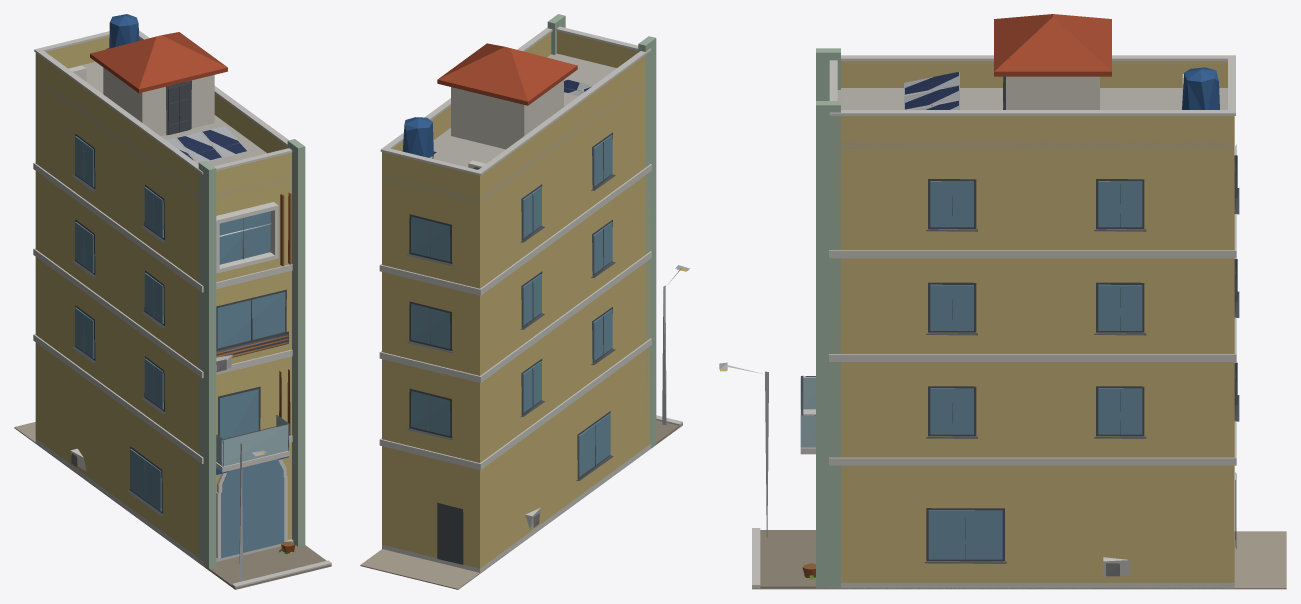
File: bay2_one.glb
The picture shows the model from 3 angles, left to right: view 1: azimuth 30°, elevation 25°; view 2: azimuth 150°, elevation 25°; view 3: azimuth 270°, elevation 25°; orthographic projection. The views are drawn at different scales.
Parts seen in each view (by area): view 1: body; view 2: body; view 3: body.
Part boxes in pixels (x1,y1,x2,y2): body: [14, 14, 331, 589]; body: [360, 14, 690, 589]; body: [719, 14, 1286, 589].
Bounding box in the file's own units: 4.71 × 18.17 × 16.88.
